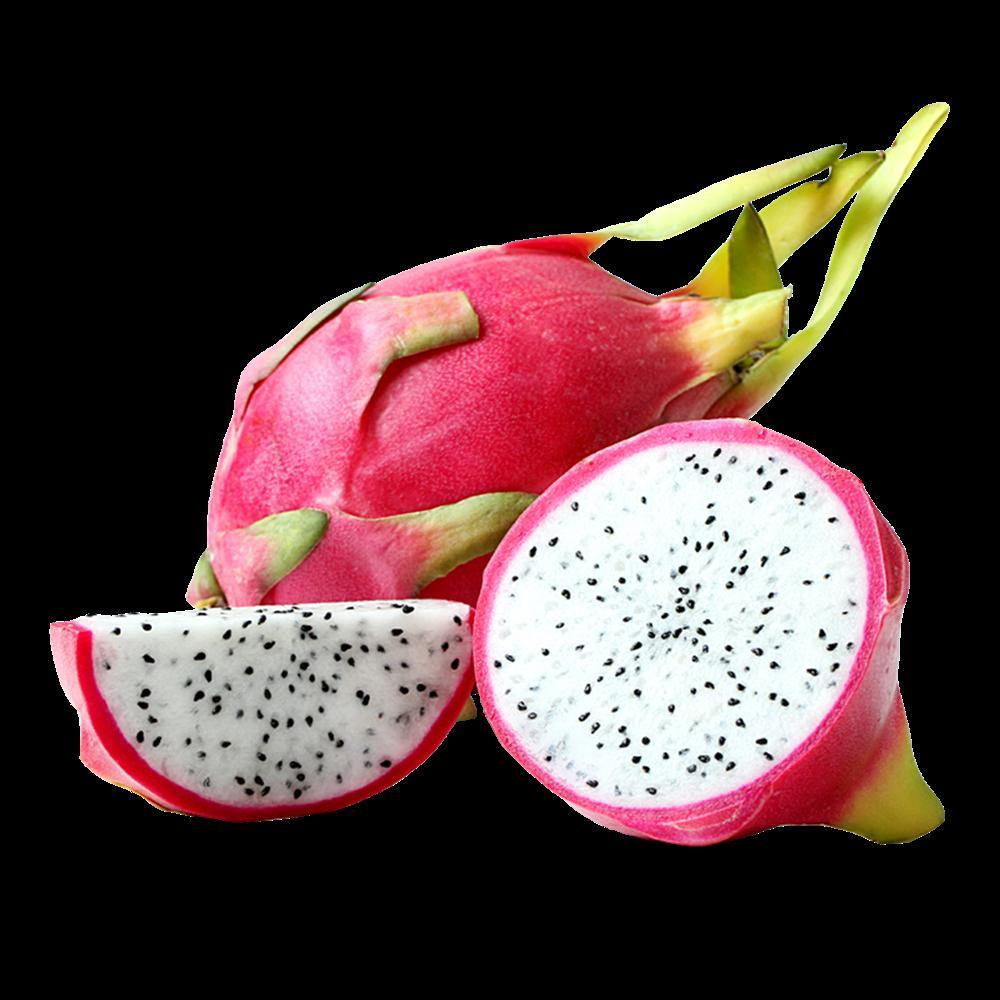dragon-fruit: (469, 415, 915, 850), (203, 242, 706, 609), (45, 595, 477, 827)
